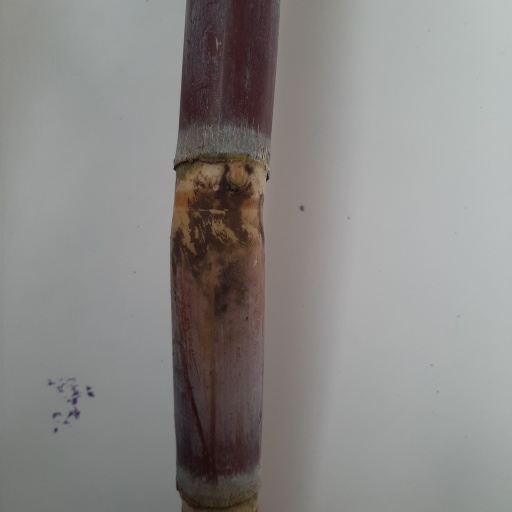Bud: (225, 159, 251, 190)
